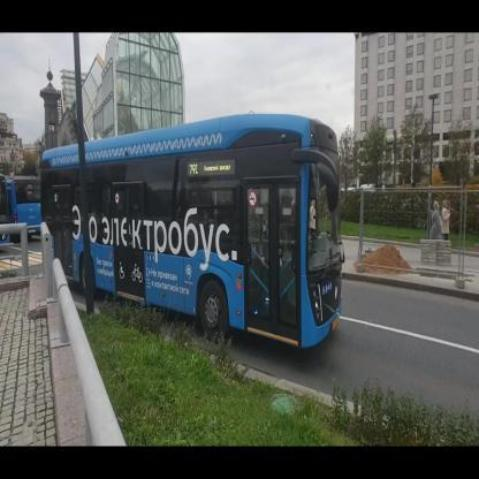bus: (43, 115, 343, 352)
